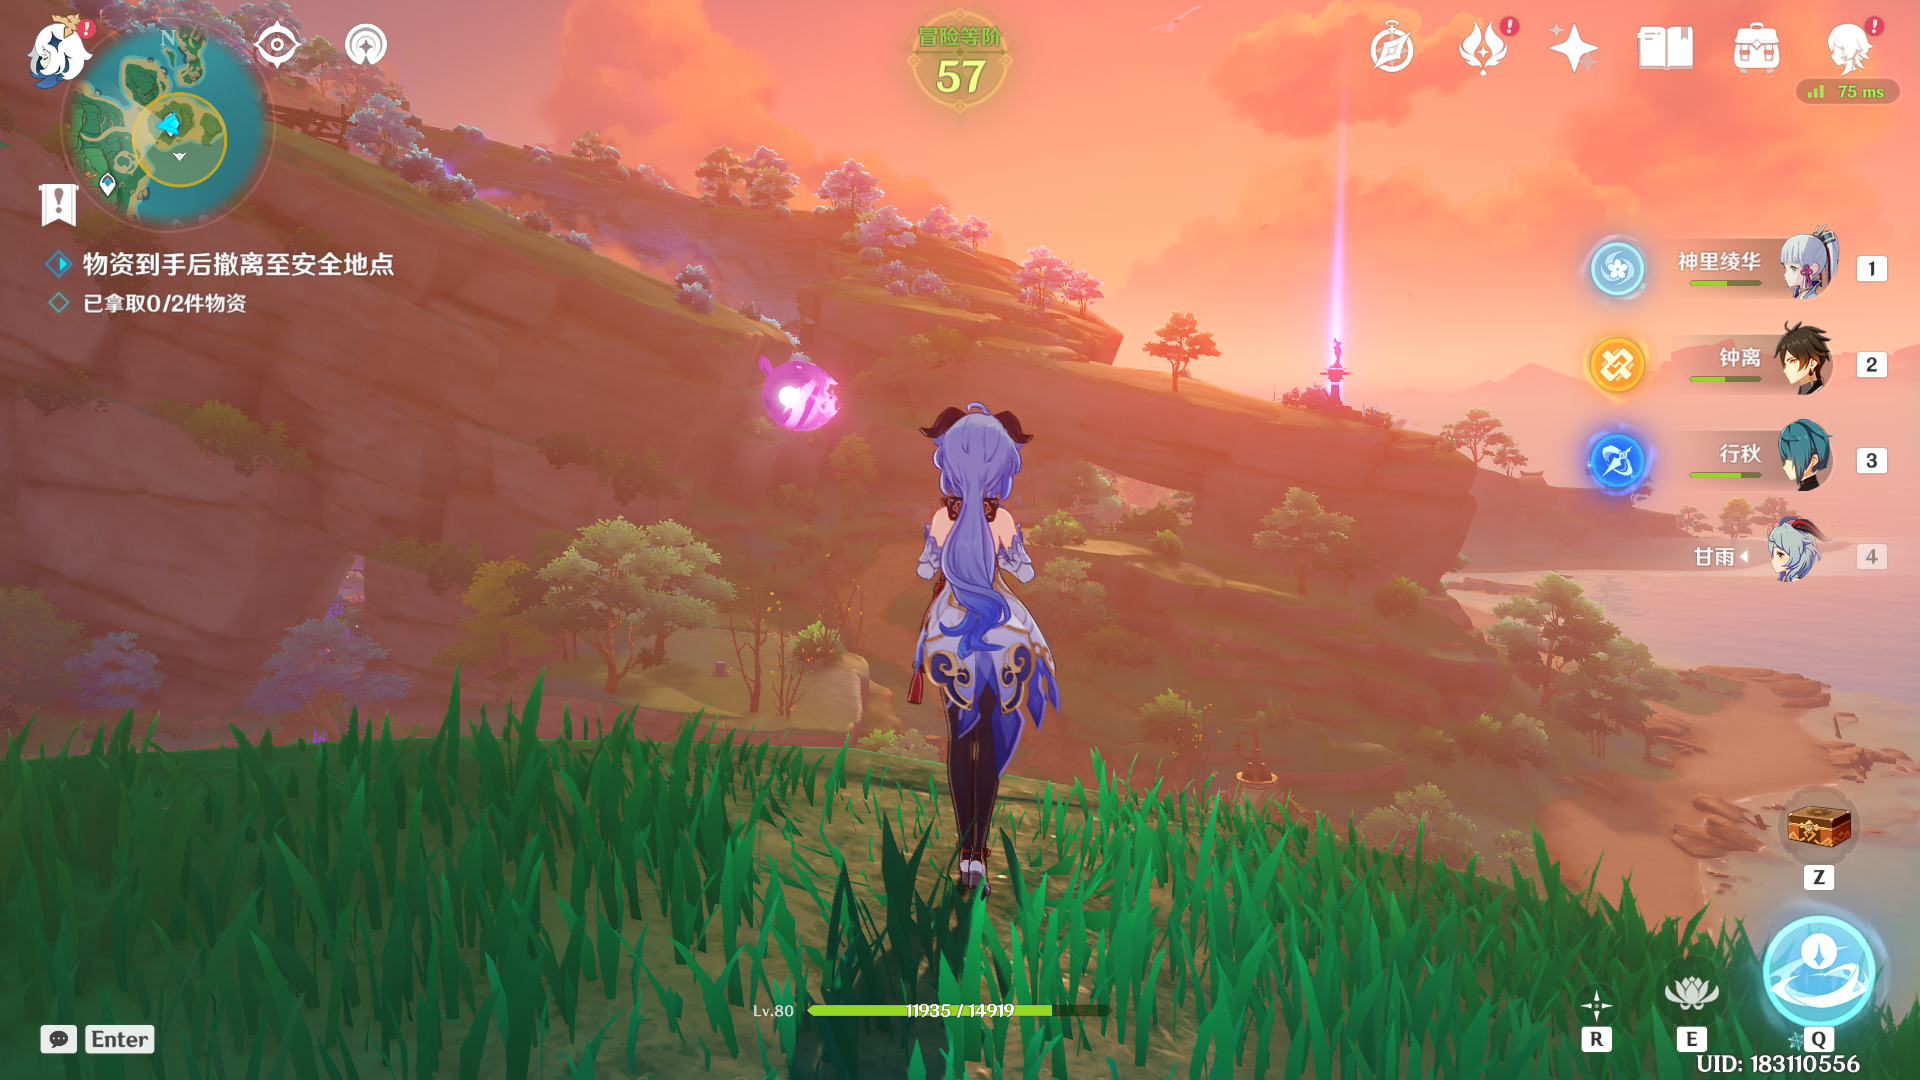character: (851, 378, 1101, 906)
